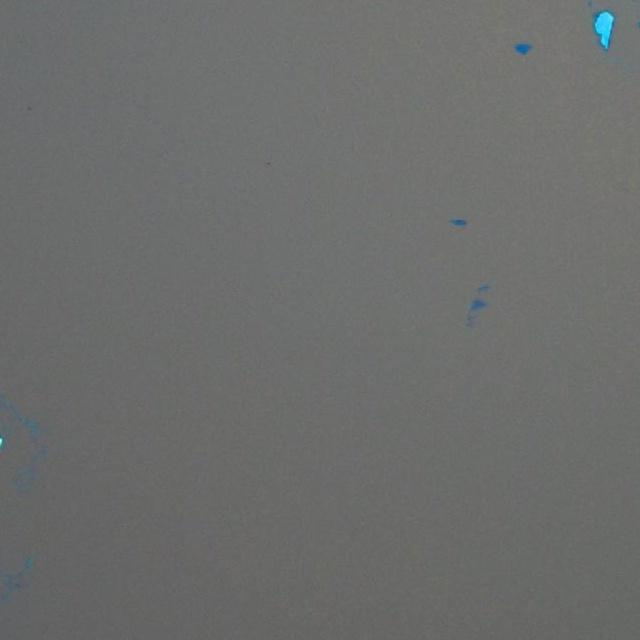monolayer-eWW4: (469, 298, 488, 312)
